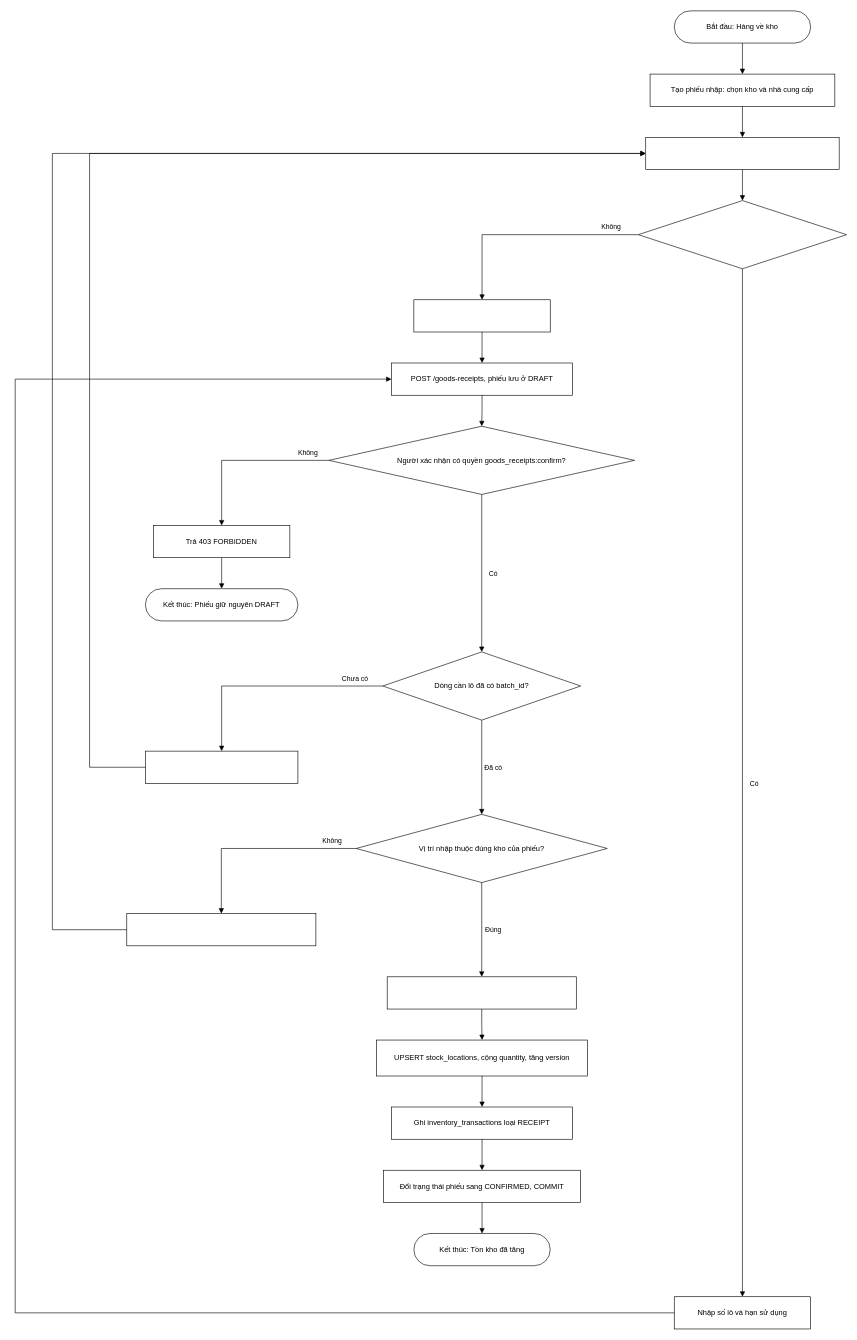
The diagram is 857 pixels wide and 1340 high, and some of its shapes have lost their labels. The centre of each missing label's shape, as x and y in pixels:
"Bỏ qua thông tin lô" belongs at (481,315).
"ROLLBACK, trả 422 BATCH_REQUIRED" belongs at (221,767).
"ROLLBACK, trả LOCATION_WAREHOUSE_MISMATCH" belongs at (221,929).
"SKU bật requires_lot_tracking?" belongs at (742,234).
"Thêm dòng hàng: SKU, số lượng, vị trí nhập" belongs at (742,153).
"Tạo mới hoặc khớp bản ghi product_batches" belongs at (481,992).
